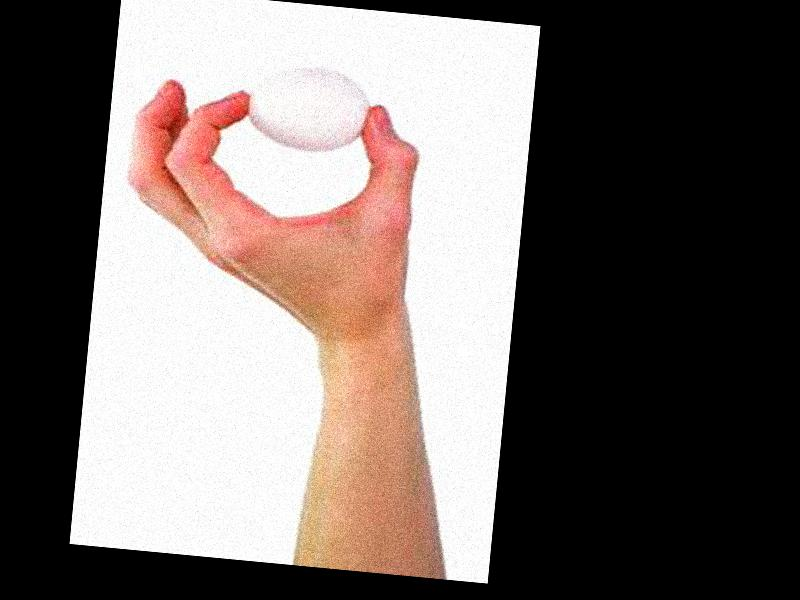Eggs: (243, 61, 372, 156)
